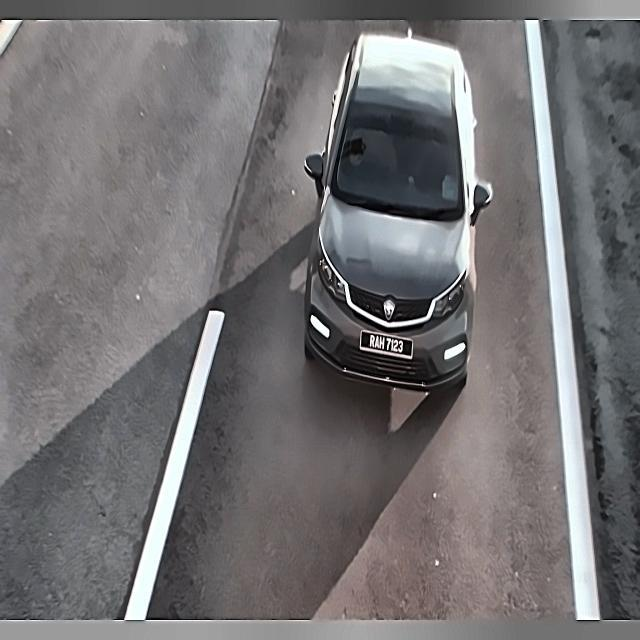car: (354, 325, 418, 362)
